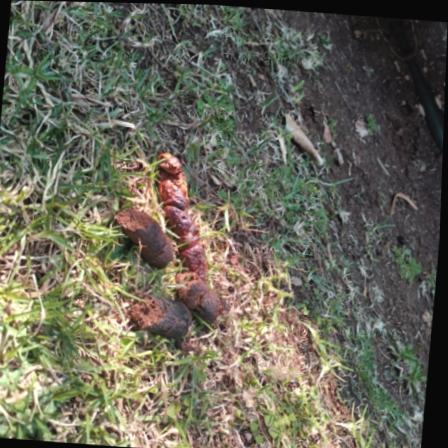dog-poop: (103, 145, 242, 346)
